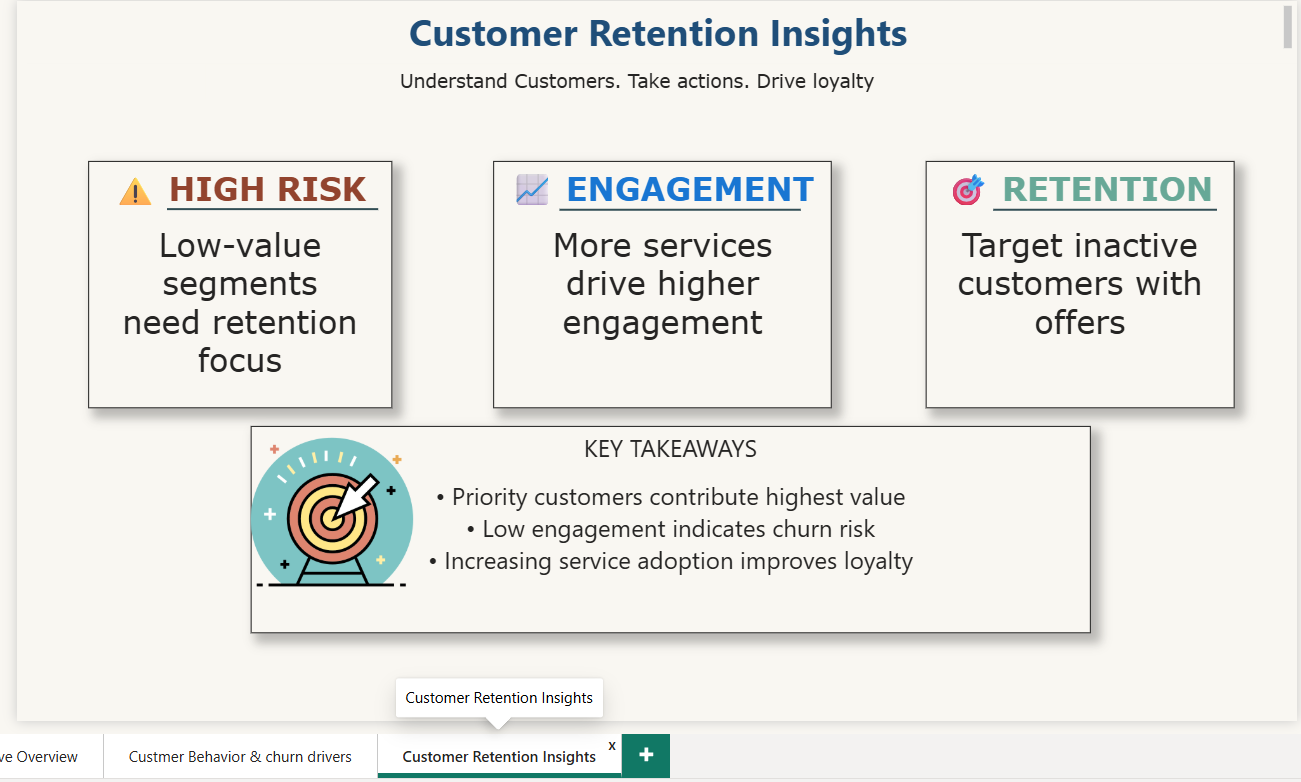

The dashboard page shown, as its layout file describes it:
{"tool":"powerbi","page":{"name":"Customer Retention Insights","canvas":[1280,720],"ordinal":2},"visuals":[{"type":"textbox","box":[10,0,1270,62.5],"z":0},{"type":"textbox","box":[71.2,160,303.8,247.5],"z":3001},{"type":"textbox","box":[476.2,160,338.8,247.5],"z":3002},{"type":"textbox","box":[908.8,160,308.8,247.5],"z":3003},{"type":"textbox","box":[233.8,425,840,207.5],"z":3005},{"type":"textbox","box":[188.8,63.8,862.5,33.8],"z":3006},{"type":"shape","box":[150,160,211.2,96.2],"z":3007},{"type":"shape","box":[542.5,173.8,241.2,70],"z":3008},{"type":"shape","box":[976.2,80,223.8,257.5],"z":3009},{"type":"image","box":[233.8,407.5,162.5,207.5],"z":3010}]}

Visuals, with their boxes on the page's 1280x720 design canvas (x1, y1, x2, y2). These are canvas units, not pixel positions in the 1301x782 screenshot, which may show the page scaled, cropped or inside an application window:
textbox: [10, 0, 1280, 62]
textbox: [71, 160, 375, 408]
textbox: [476, 160, 815, 408]
textbox: [909, 160, 1218, 408]
textbox: [234, 425, 1074, 632]
textbox: [189, 64, 1051, 98]
shape: [150, 160, 361, 256]
shape: [542, 174, 784, 244]
shape: [976, 80, 1200, 338]
image: [234, 408, 396, 615]
